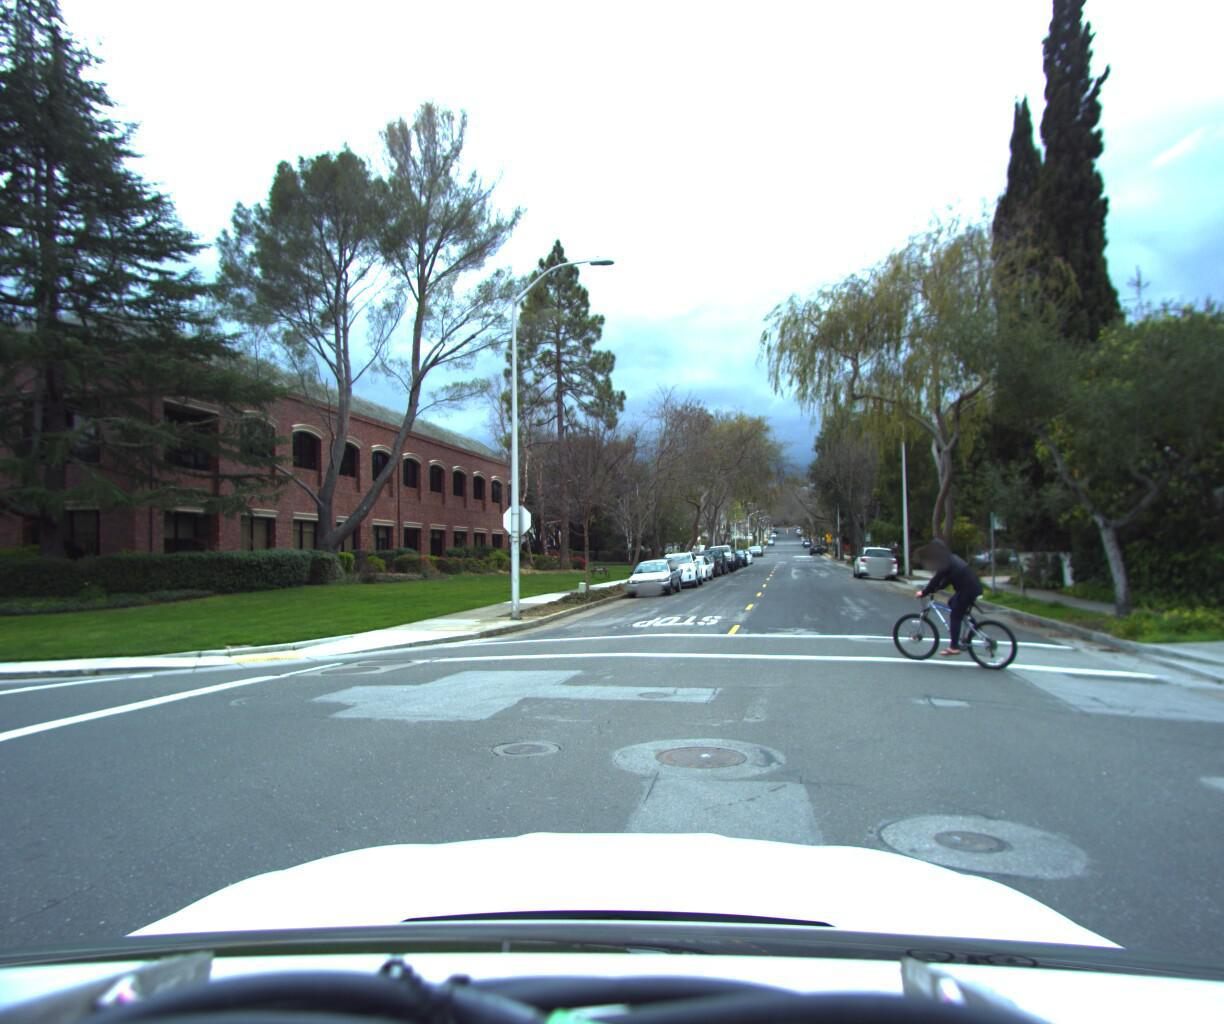bicycle: (867, 524, 1035, 674)
car: (621, 555, 680, 598), (959, 543, 1040, 570), (649, 547, 703, 587), (848, 540, 896, 578), (699, 542, 736, 573)
